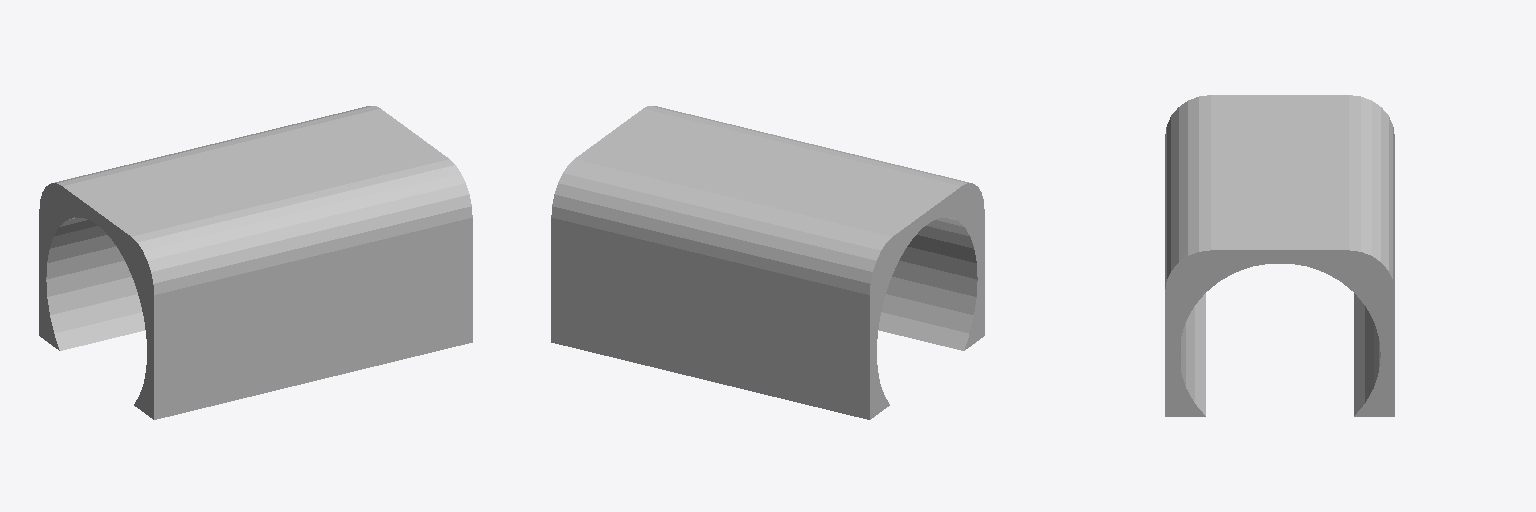
The model's file is tunnel v2.obj.
3 views of the same model, side by side, from view 1: azimuth 30°, elevation 25°; view 2: azimuth 150°, elevation 25°; view 3: azimuth 270°, elevation 25° (orthographic).
Visible parts, largest first — view 1: tunnel_v2; view 2: tunnel_v2; view 3: tunnel_v2.
Part boxes in pixels (left/top/right/bottom): tunnel_v2: left=39, top=106, right=472, bottom=419; tunnel_v2: left=551, top=106, right=984, bottom=419; tunnel_v2: left=1165, top=95, right=1394, bottom=416.
Bounding box in the file's own units: 80 × 40 × 50.